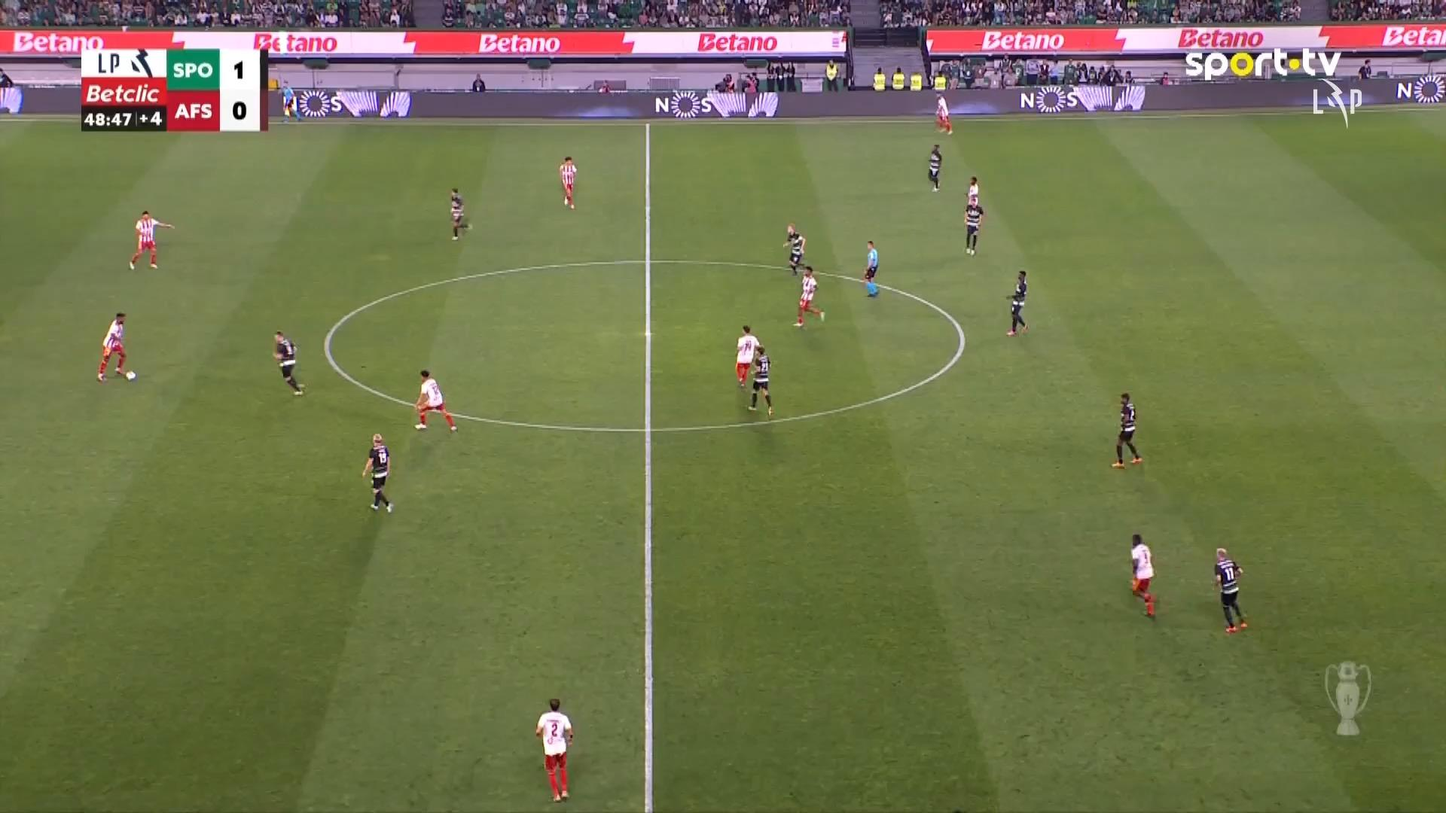ball: (124, 370, 136, 381)
player: (535, 697, 574, 802), (1213, 547, 1248, 634), (96, 311, 136, 382), (127, 209, 174, 269), (413, 368, 456, 432), (361, 433, 393, 513), (1111, 391, 1142, 468), (1129, 532, 1156, 617), (272, 330, 304, 396), (792, 266, 825, 327), (747, 345, 774, 416), (734, 324, 761, 388), (1005, 269, 1029, 336), (963, 195, 984, 256), (782, 222, 806, 275), (449, 187, 469, 240), (558, 156, 577, 209), (935, 93, 953, 134), (927, 143, 942, 192), (966, 175, 979, 209)
referee: (862, 239, 880, 297), (280, 80, 304, 123)
